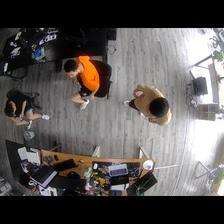normal: (122, 84, 175, 128), (63, 56, 99, 111), (4, 95, 50, 129)
